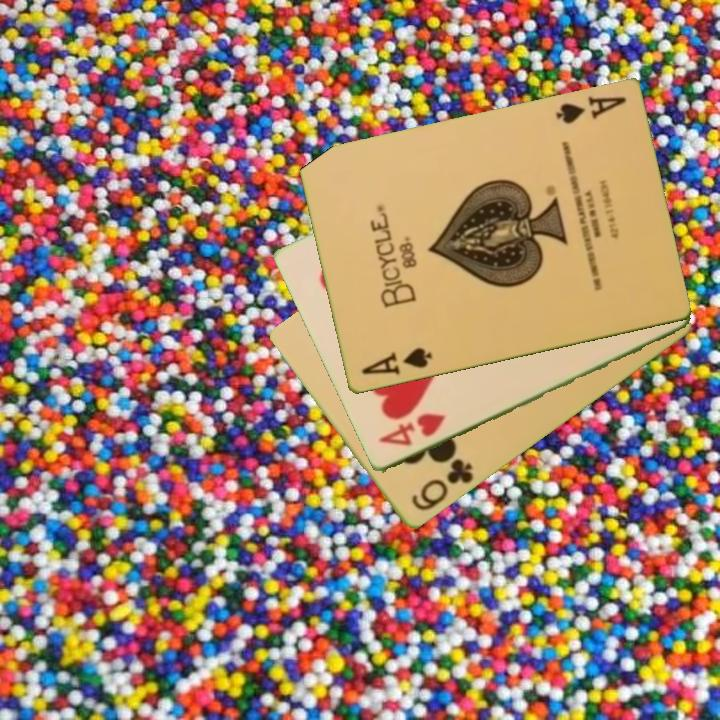4h: (375, 410, 448, 450)
6c: (407, 455, 476, 515)
As: (357, 344, 435, 379), (551, 93, 629, 128)
